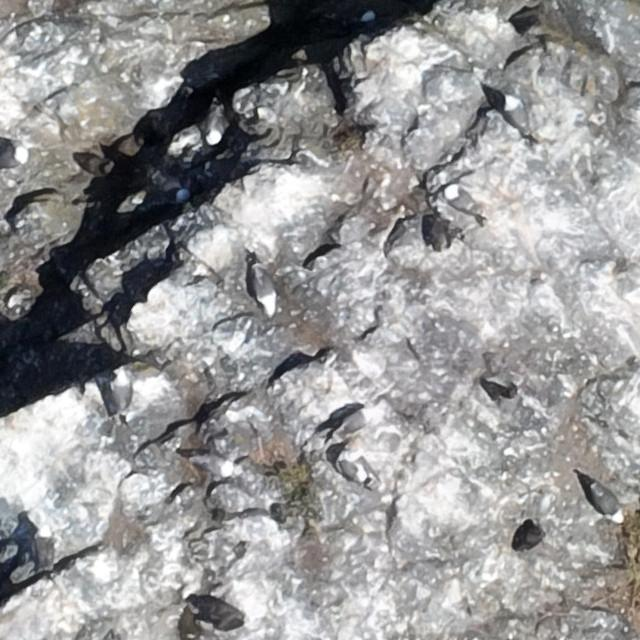umineko: (333, 405, 378, 439), (153, 166, 192, 202), (188, 447, 234, 477), (254, 265, 278, 319), (32, 522, 57, 571), (589, 484, 620, 520), (207, 99, 226, 144), (446, 188, 476, 213), (506, 99, 527, 134), (114, 380, 130, 416), (340, 459, 365, 480), (1, 148, 26, 168)
